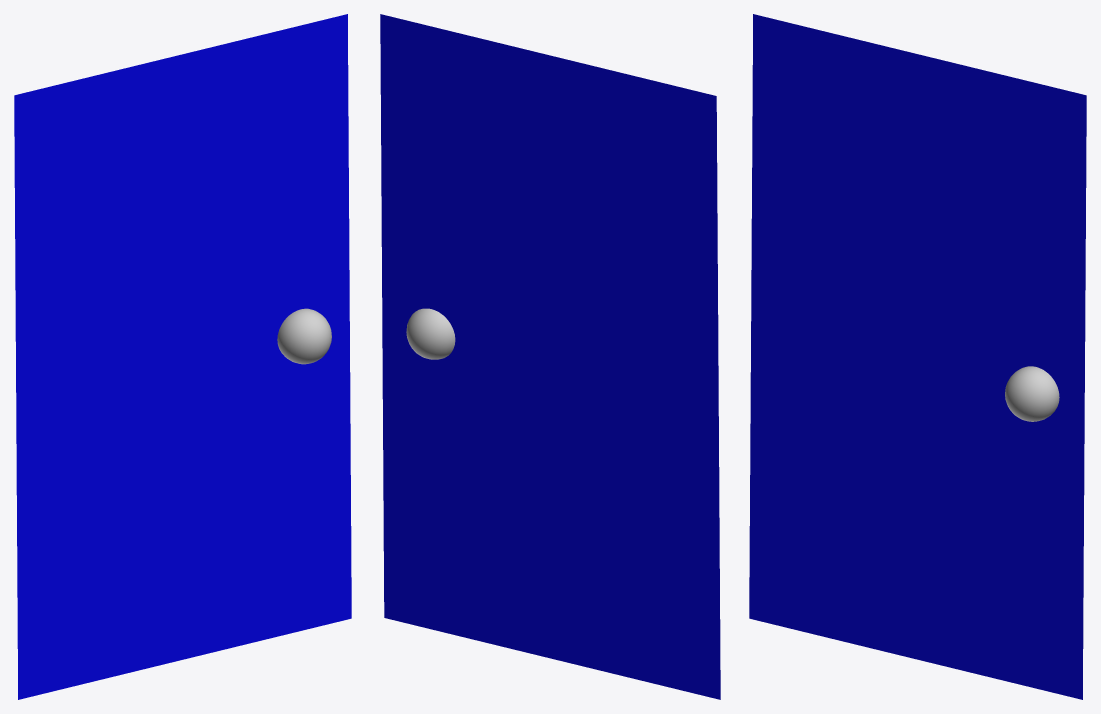
The model's file is puerta.obj.
The picture shows the model from 3 angles, left to right: view 1: azimuth 30°, elevation 25°; view 2: azimuth 150°, elevation 25°; view 3: azimuth 330°, elevation 25°; orthographic projection.
Parts seen in each view (by area): view 1: Plano, Esfera; view 2: Plano, Esfera; view 3: Plano, Esfera.
Boxes of the visible parts, bbox=[...] form: Plano: bbox=[14, 14, 351, 699]; Esfera: bbox=[277, 308, 331, 364]; Plano: bbox=[380, 14, 720, 699]; Esfera: bbox=[406, 308, 455, 359]; Plano: bbox=[749, 14, 1086, 699]; Esfera: bbox=[1005, 366, 1059, 421].
Bounding box in the file's own units: 1.16 × 2 × 0.1687.
